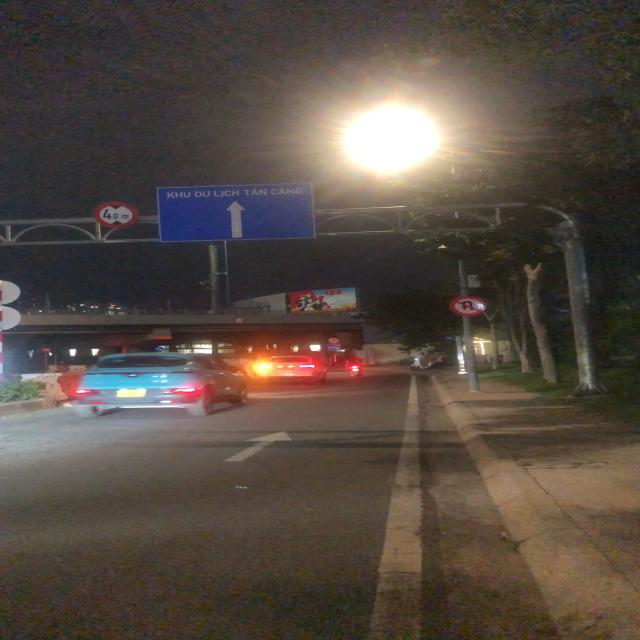Bien bao cam quay dau xe: (448, 295, 488, 318)
Bien bao han che chieu cao: (93, 201, 140, 228)
